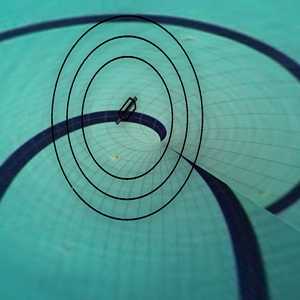circle: (49, 8, 214, 233)
submarine: (106, 88, 151, 135)
